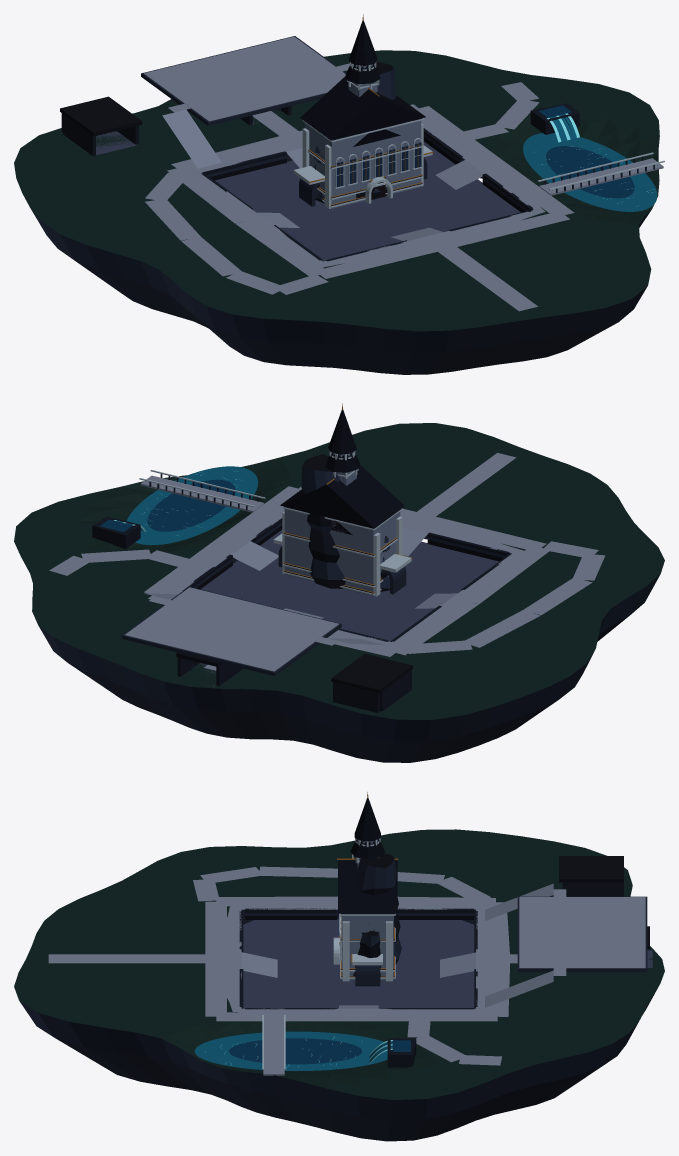
The model's file is shadowgarden_kit.fbx.
3 renders of one model, top to bottom at view 1: azimuth 30°, elevation 25°; view 2: azimuth 150°, elevation 25°; view 3: azimuth 270°, elevation 25°, orthographic. The views are drawn at different scales.
Visible parts, largest first — view 1: Ilha_Base__pal, Caminhos__pal, Pedreira_Piso__pal, Salao_Sete_Sombras__pal, Patio_Cidadela__pal, Lago__pal, Mina_e_Cripta__pal, Cortes_Pedreira__pal, Ponte_Lago__pal, Acessos_Cidadela__pal, Rampas_Pedreira__pal, Torre_Alta__pal (+5 smaller); view 2: Ilha_Base__pal, Caminhos__pal, Pedreira_Piso__pal, Patio_Cidadela__pal, Salao_Sete_Sombras__pal, Lago__pal, Mina_e_Cripta__pal, Falesia_2__pal, Cortes_Pedreira__pal, Ponte_Lago__pal, Rampas_Pedreira__pal, Nascente__pal (+4 smaller); view 3: Ilha_Base__pal, Pedreira_Piso__pal, Caminhos__pal, Patio_Cidadela__pal, Lago__pal, Salao_Sete_Sombras__pal, Cortes_Pedreira__pal, Mina_e_Cripta__pal, Acessos_Cidadela__pal, Falesia_2__pal, Rampas_Pedreira__pal, Ponte_Lago__pal (+5 smaller).
Boxes of the visible parts, x1,y1,x2,y2 form: Ilha_Base__pal: (14, 50, 659, 374); Caminhos__pal: (145, 82, 574, 311); Pedreira_Piso__pal: (215, 141, 520, 261); Salao_Sete_Sombras__pal: (300, 76, 425, 208); Patio_Cidadela__pal: (141, 36, 345, 125); Lago__pal: (523, 133, 657, 211); Mina_e_Cripta__pal: (60, 96, 291, 155); Cortes_Pedreira__pal: (201, 128, 533, 261); Ponte_Lago__pal: (538, 152, 664, 195); Acessos_Cidadela__pal: (162, 63, 349, 168); Rampas_Pedreira__pal: (257, 148, 483, 240); Torre_Alta__pal: (348, 14, 377, 94); Ilha_Base__pal: (14, 423, 664, 762); Caminhos__pal: (49, 453, 605, 670); Pedreira_Piso__pal: (200, 530, 498, 641); Patio_Cidadela__pal: (122, 586, 341, 675); Salao_Sete_Sombras__pal: (280, 464, 404, 596); Lago__pal: (126, 466, 258, 545); Mina_e_Cripta__pal: (176, 652, 412, 712); Falesia_2__pal: (301, 454, 345, 588); Cortes_Pedreira__pal: (182, 518, 509, 641); Ponte_Lago__pal: (139, 470, 265, 512); Rampas_Pedreira__pal: (232, 527, 457, 618); Nascente__pal: (92, 516, 140, 548); Ilha_Base__pal: (14, 829, 664, 1141); Pedreira_Piso__pal: (243, 919, 474, 1008); Caminhos__pal: (48, 866, 517, 1065); Patio_Cidadela__pal: (517, 896, 647, 972); Lago__pal: (194, 1031, 387, 1071); Salao_Sete_Sombras__pal: (333, 858, 398, 981); Cortes_Pedreira__pal: (239, 908, 477, 1009); Mina_e_Cripta__pal: (559, 856, 652, 967); Acessos_Cidadela__pal: (485, 883, 566, 1007); Falesia_2__pal: (355, 853, 401, 964); Rampas_Pedreira__pal: (241, 913, 475, 1008); Ponte_Lago__pal: (262, 1015, 285, 1075).
Bounding box in the file's own units: 35511 × 14850 × 36093.
Materials: 1 (1 with a texture image).
